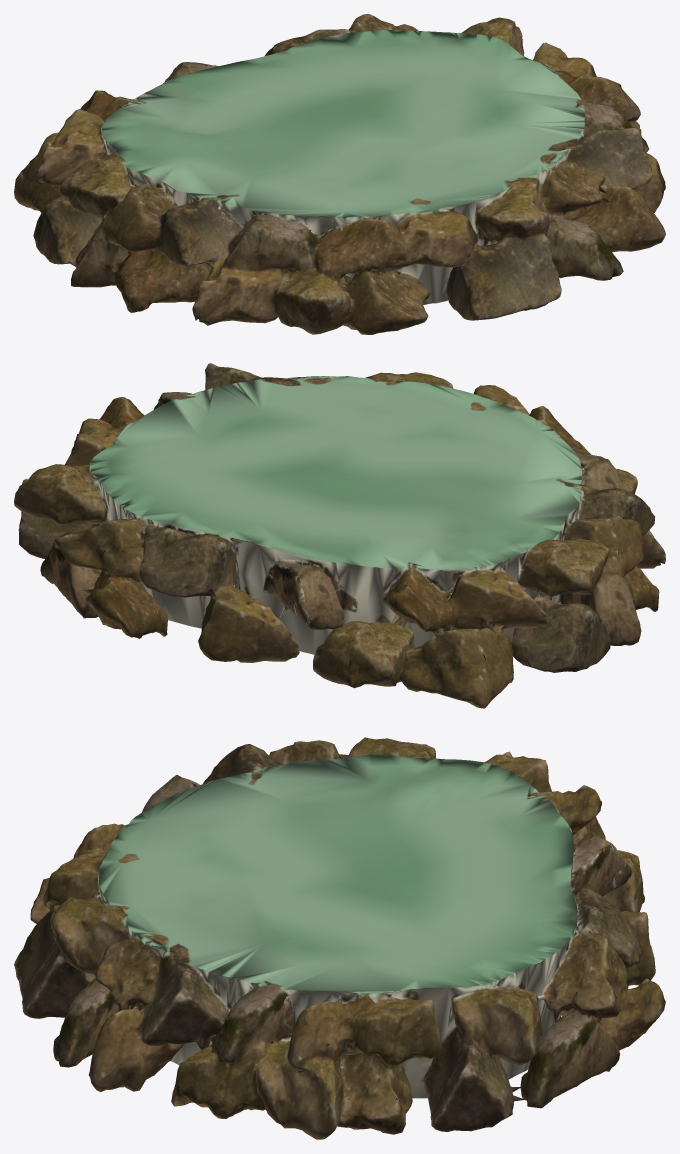
File: continuous_island_v10_2.glb
3 views of the same model, one above another, from view 1: azimuth 30°, elevation 25°; view 2: azimuth 150°, elevation 25°; view 3: azimuth 270°, elevation 25° (orthographic). The views are drawn at different scales.
Parts seen in each view (by area): view 1: Continuous_manifold_weathered_island_3; view 2: Continuous_manifold_weathered_island_3; view 3: Continuous_manifold_weathered_island_3.
Part boxes in pixels (x1,y1,x2,y2): Continuous_manifold_weathered_island_3: (14, 14, 665, 334); Continuous_manifold_weathered_island_3: (14, 363, 665, 708); Continuous_manifold_weathered_island_3: (14, 737, 665, 1139).
Size of the model in its own units: 31.91 by 5.76 by 27.32.
1 material, 1 textured.
